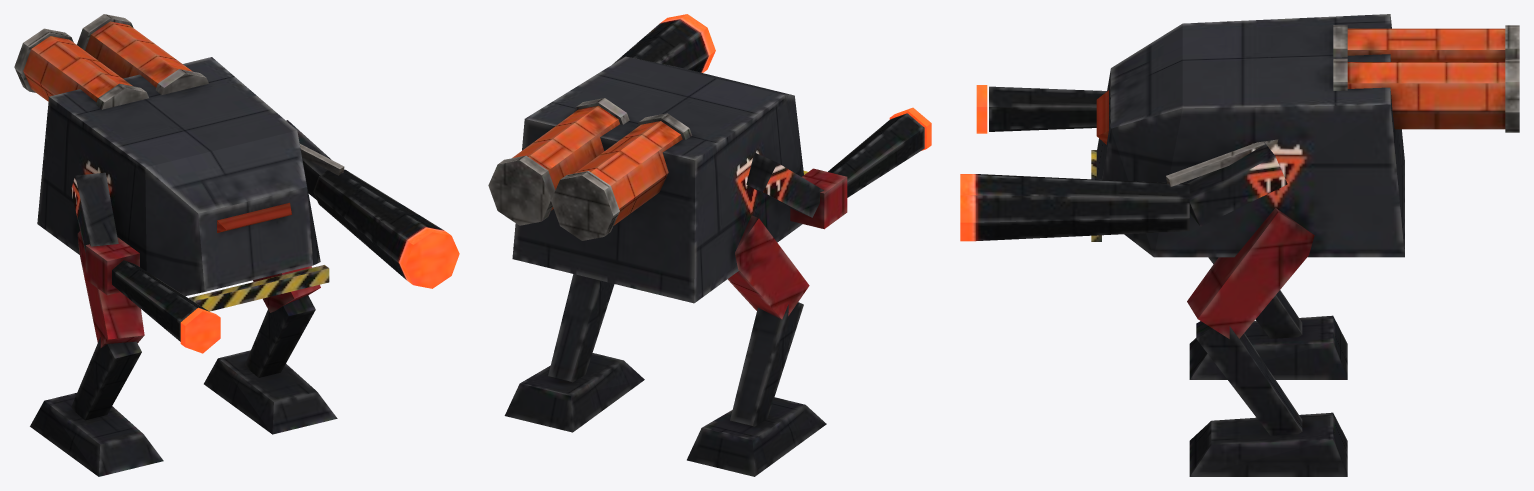
File: u_pyro2_e.glb
3 views of the same model, side by side, from view 1: azimuth 30°, elevation 25°; view 2: azimuth 150°, elevation 25°; view 3: azimuth 270°, elevation 25° (orthographic). The views are drawn at different scales.
Visible parts, largest first — view 1: u_pyro2_e; view 2: u_pyro2_e; view 3: u_pyro2_e.
Boxes of the visible parts, x1,y1,x2,y2 form: u_pyro2_e: [14, 14, 459, 476]; u_pyro2_e: [488, 14, 931, 476]; u_pyro2_e: [960, 14, 1519, 476].
Size of the model in its own units: 1.14 by 1.31 by 1.8.
Materials: 1 (1 with a texture image).
